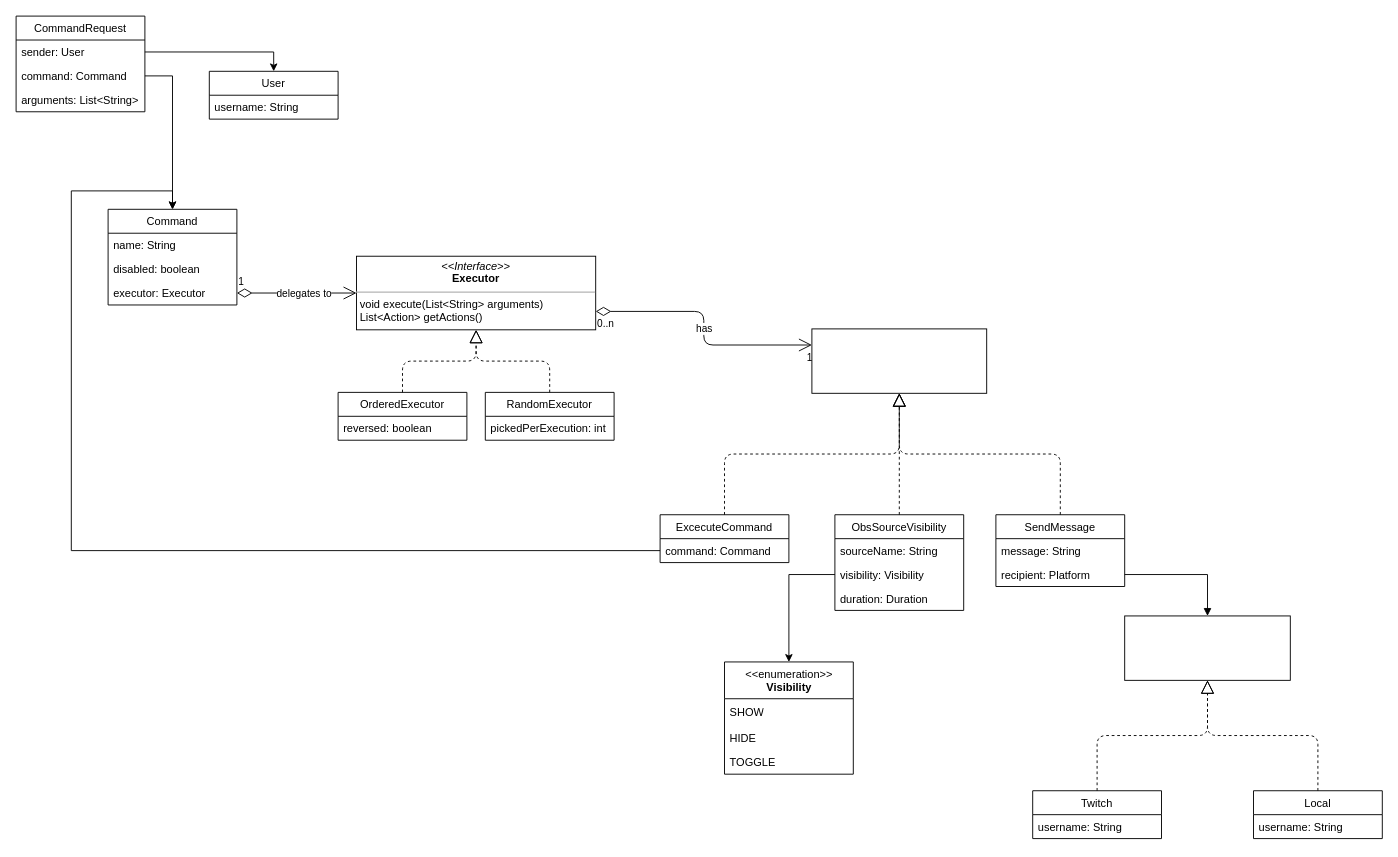
Image size: 1398x857. Some labels were removed from this diagram. The shapes that lost their labels are listed below. From the top down, each one's centre as x and y in pixels, then its label:
At (899,360): "<<Interface>> Action execute(List<String> arguments)".
At (1207,647): "<<Interface>> Platform sendMessage(String message)".
